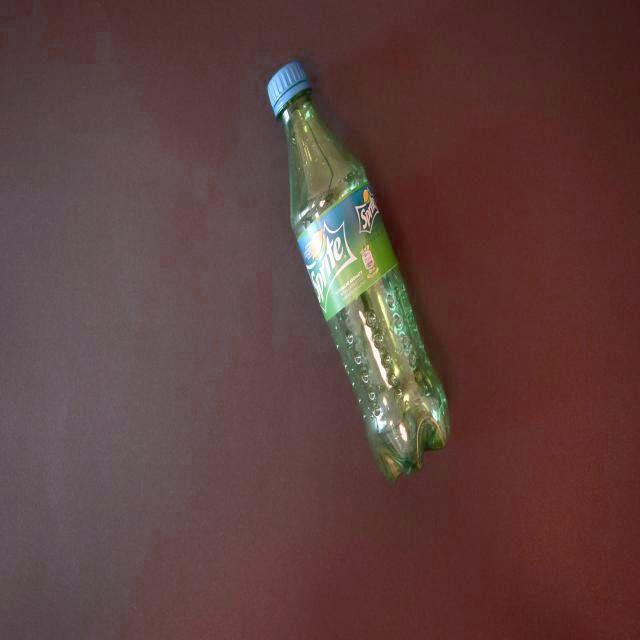bottle: (266, 60, 451, 485)
